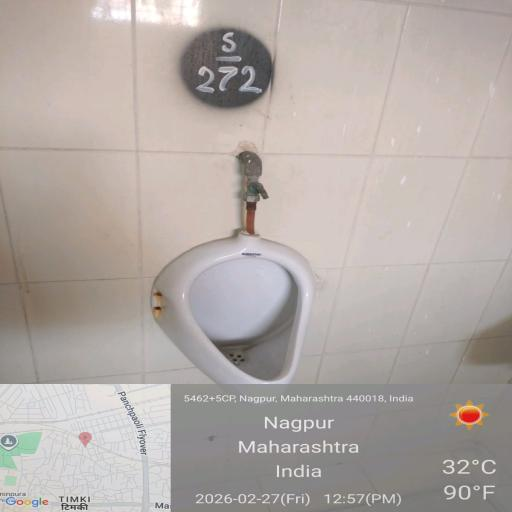clean_floor: (0, 0, 512, 232), (324, 251, 512, 389), (0, 245, 137, 380)
partial_dirty_urinal: (167, 244, 309, 385)
